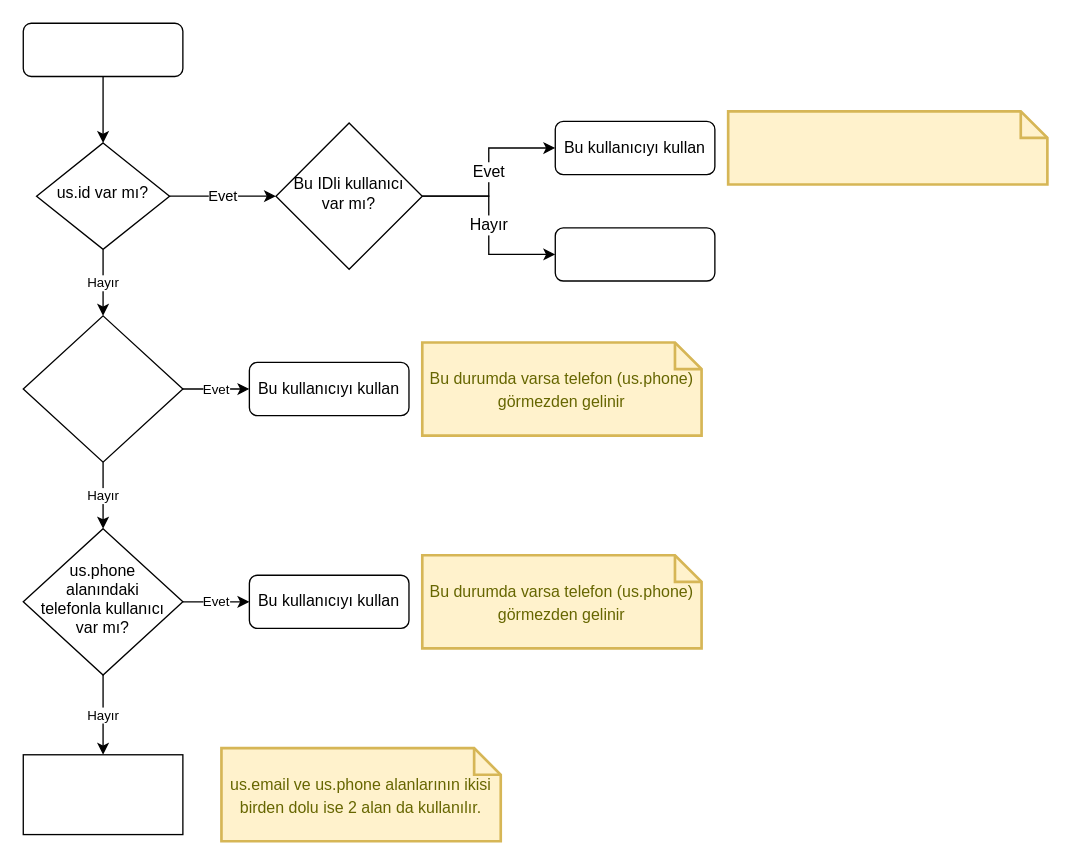
This 1072x866 diagram has some shape labels left out. Here are the shapes that lost their labels. From the top down, the box of each, then its label:
(22, 22, 183, 76): Ticket create isteği gönderilir
(726, 109, 1048, 185): Bu durumda varsa e-posta (us.email) ve telefon (us.phone) görmezden gelinir
(554, 226, 715, 281): Hata 404
(22, 315, 183, 462): us.email alanındaki epostayla kullanıcı var mı?
(22, 753, 183, 835): us.email ve us.phone alanları ile yeni bir kullanıcı oluşturulur.
